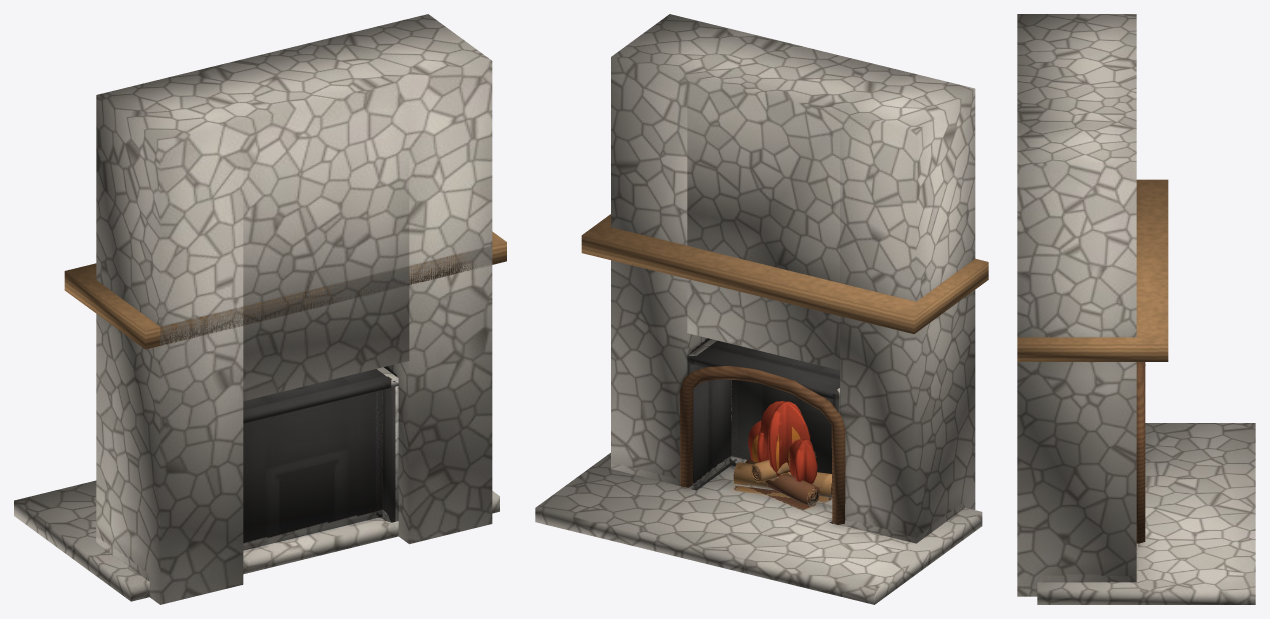
The model's file is fireplace_stone.glb.
The picture shows the model from 3 angles, left to right: view 1: azimuth 30°, elevation 25°; view 2: azimuth 150°, elevation 25°; view 3: azimuth 270°, elevation 25°; orthographic projection. The views are drawn at different scales.
Parts seen in each view (by area): view 1: prop_fireplace_stone_felt, prop_fireplace_stone_wood; view 2: prop_fireplace_stone_felt, prop_fireplace_stone_wood, prop_fireplace_stone_fire; view 3: prop_fireplace_stone_felt, prop_fireplace_stone_wood.
Boxes of the visible parts, <box> form: prop_fireplace_stone_felt: <box>14,14,499,604</box>; prop_fireplace_stone_wood: <box>64,231,506,349</box>; prop_fireplace_stone_felt: <box>535,14,982,604</box>; prop_fireplace_stone_wood: <box>581,214,988,524</box>; prop_fireplace_stone_fire: <box>748,401,817,483</box>; prop_fireplace_stone_felt: <box>1017,14,1255,604</box>; prop_fireplace_stone_wood: <box>1017,179,1168,543</box>.
Bounding box in the file's own units: 4 × 4.8 × 2.4.
4 materials, 4 textured.
